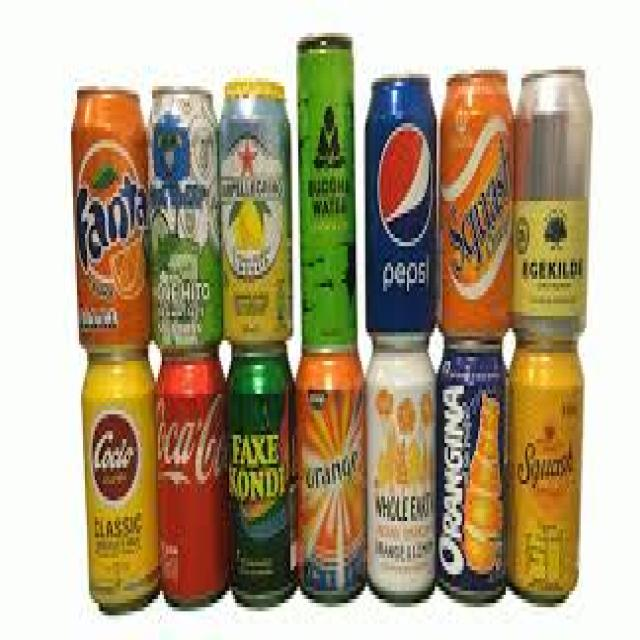Cans: (69, 349, 164, 611), (290, 25, 362, 357), (67, 74, 152, 353), (502, 341, 588, 607), (359, 65, 438, 348), (434, 66, 514, 344), (514, 62, 594, 340), (218, 74, 294, 349), (152, 349, 233, 607), (144, 82, 221, 349), (362, 349, 442, 603), (223, 341, 300, 603), (292, 345, 370, 603), (436, 349, 514, 607)
